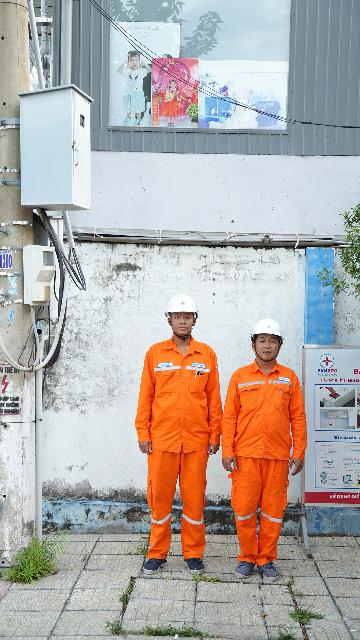helmet: (157, 293, 208, 323), (249, 315, 283, 349)
shoes: (215, 543, 259, 587), (127, 551, 174, 576), (255, 552, 288, 587), (181, 547, 211, 579)
